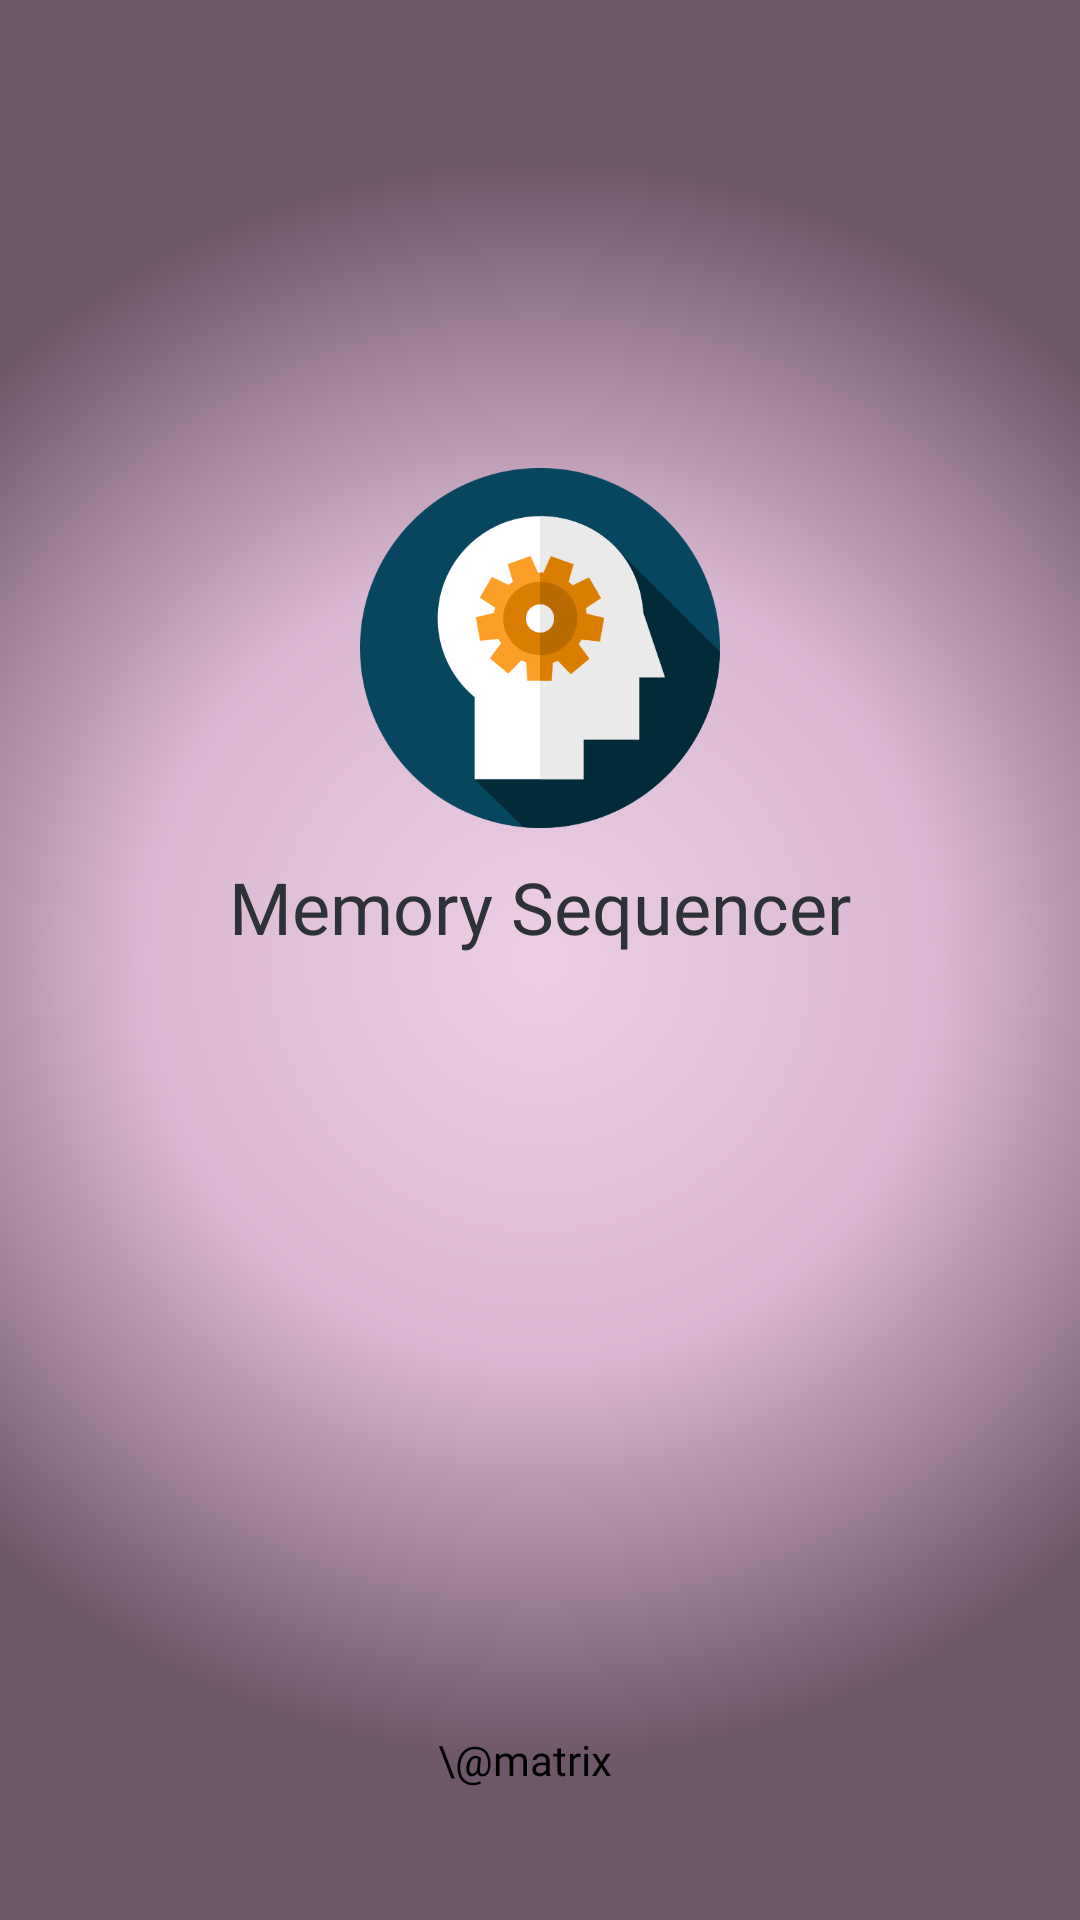

Locate icon controls on the screen. Image size 1080×1920, boxes as Rect(x1, y1, x2, y2).
intelligence: Rect(360, 468, 720, 828)
